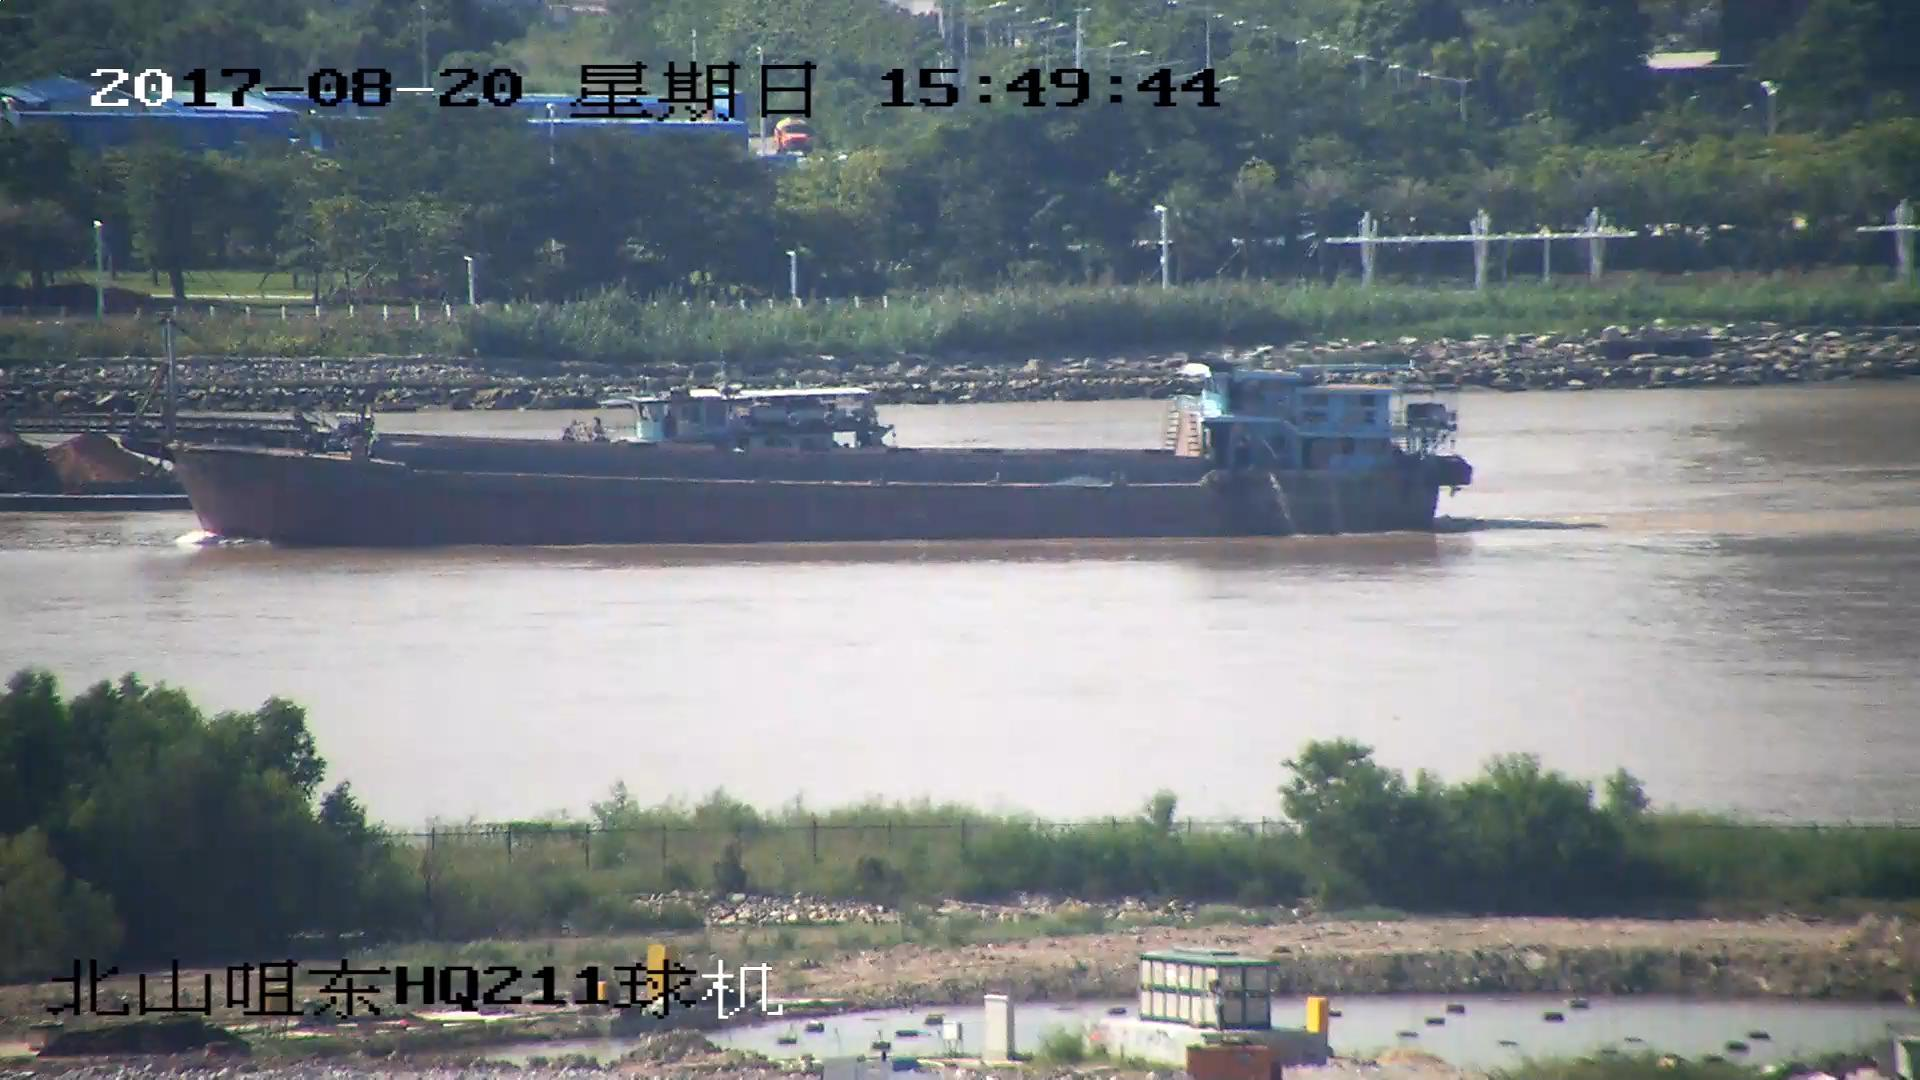Ship: (3, 351, 1462, 553), (3, 386, 886, 510)
